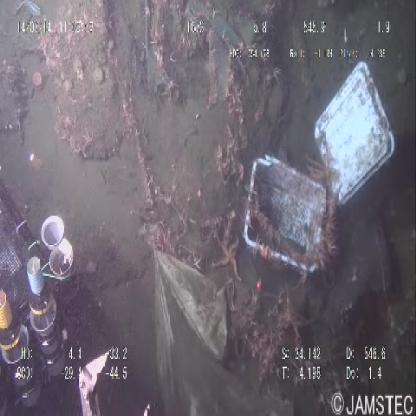Rov: (1, 140, 158, 416)
Rác: (242, 56, 395, 290)
